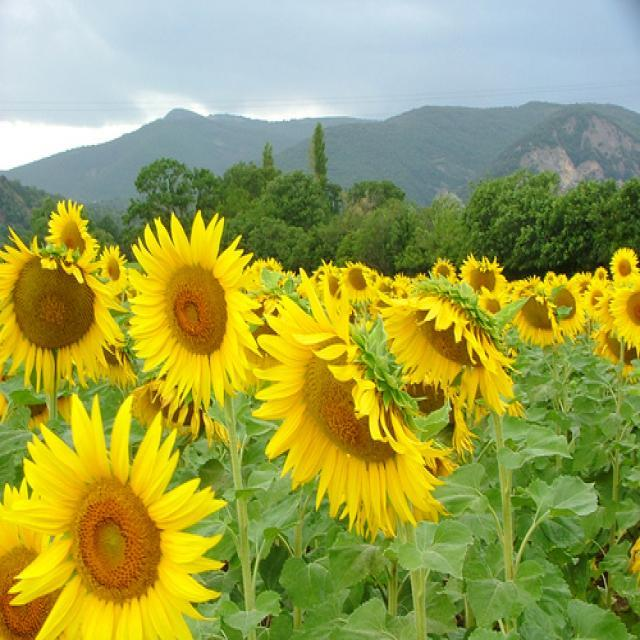sunflower: (256, 268, 456, 538), (7, 394, 226, 640), (129, 210, 265, 410), (0, 226, 127, 398), (374, 284, 520, 415), (1, 477, 67, 640), (398, 376, 478, 461), (130, 380, 230, 446), (243, 294, 282, 386), (542, 274, 587, 339), (512, 295, 564, 349), (11, 394, 76, 430), (592, 323, 640, 370), (92, 337, 138, 385), (608, 282, 640, 350), (458, 252, 507, 292), (44, 199, 89, 242), (313, 257, 346, 304), (338, 261, 373, 303), (98, 245, 127, 281), (584, 279, 609, 318), (609, 248, 639, 280), (476, 286, 504, 316), (71, 235, 99, 264), (432, 256, 456, 280), (367, 297, 392, 317), (574, 272, 593, 297), (261, 257, 284, 276), (521, 274, 542, 292), (505, 280, 524, 299), (375, 276, 395, 293), (246, 259, 265, 275), (544, 271, 560, 289), (595, 266, 608, 284)
